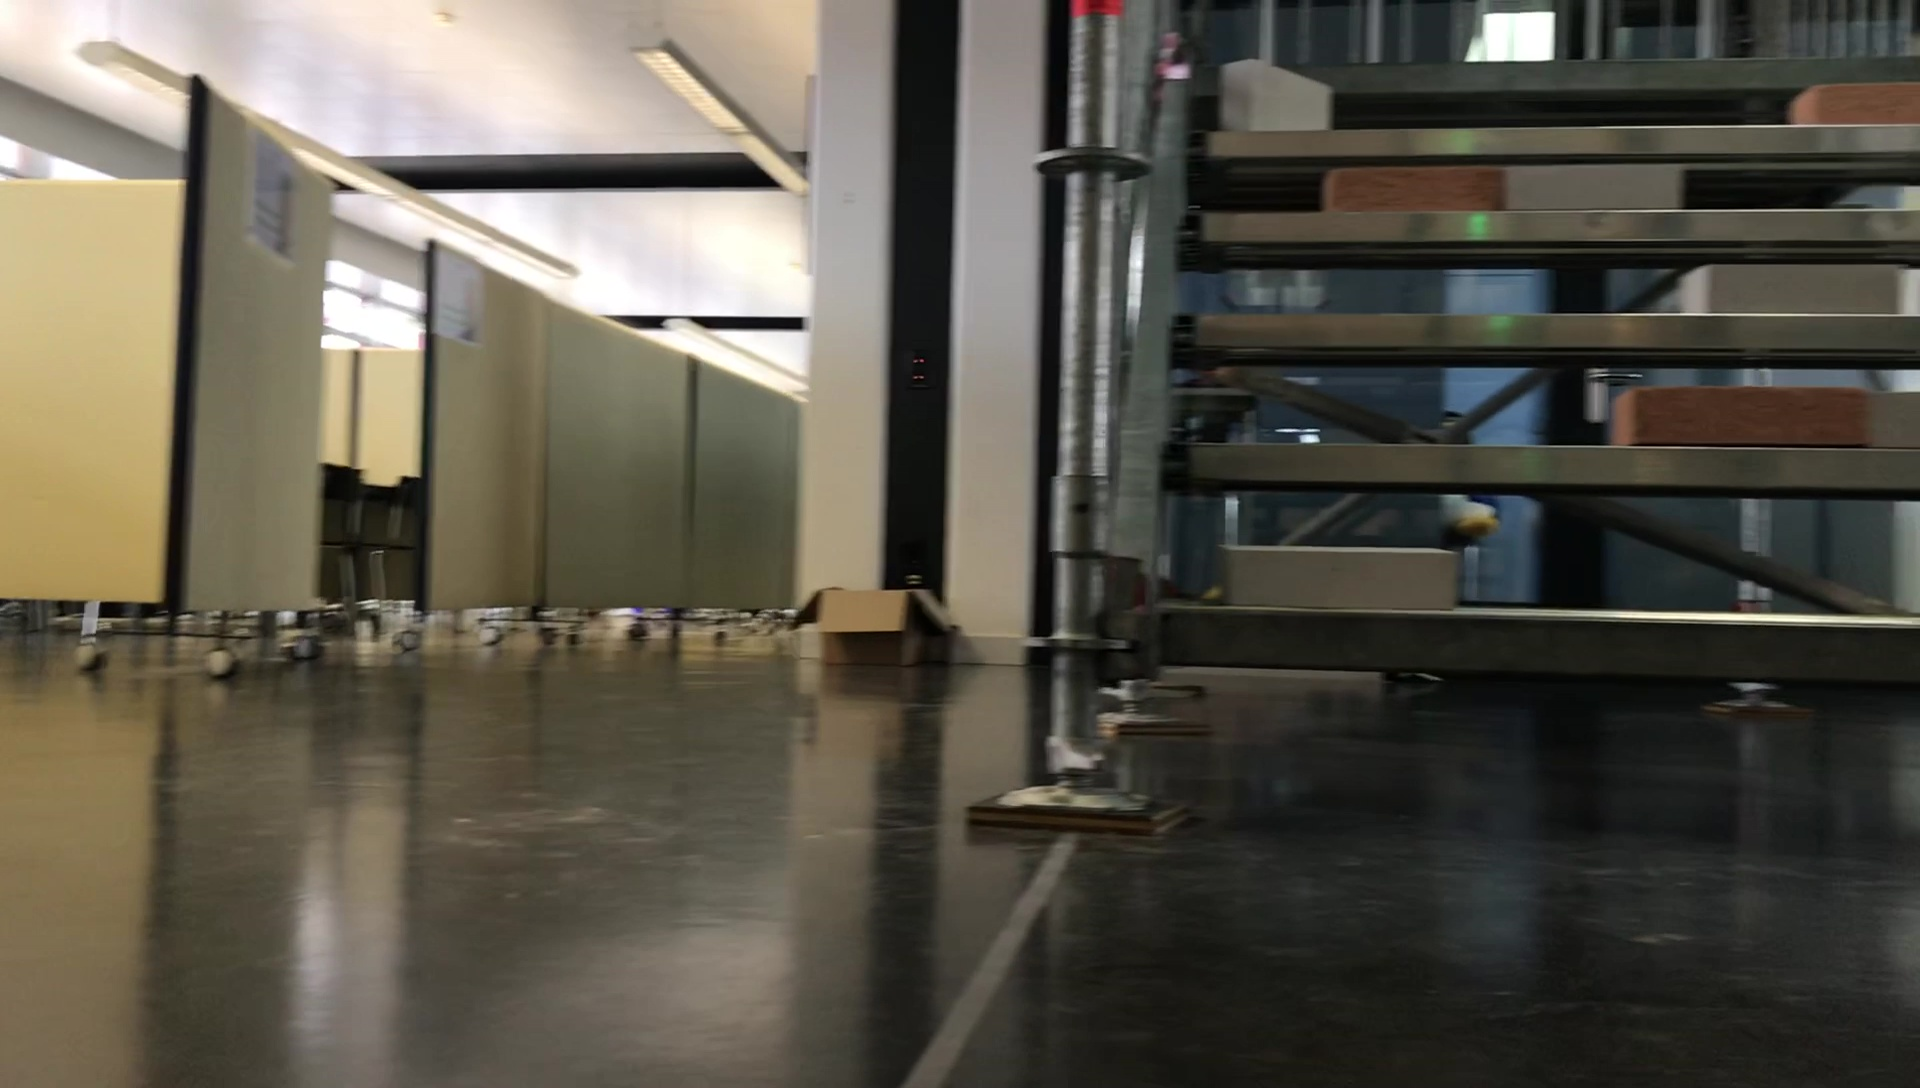brick: (1607, 378, 1861, 454), (1222, 545, 1468, 607), (1502, 158, 1708, 216), (1665, 261, 1911, 309), (1215, 50, 1332, 129), (1321, 162, 1516, 206), (1787, 86, 1920, 123)
edge: (1145, 603, 1920, 678), (1150, 442, 1920, 497), (1193, 49, 1916, 95), (1185, 309, 1920, 346), (1195, 128, 1920, 160), (1187, 206, 1920, 233)
steps: (1113, 36, 1920, 696)
